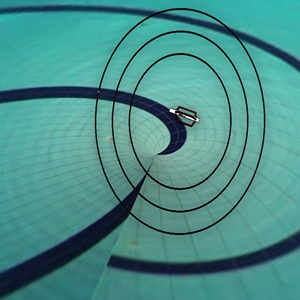circle: (77, 3, 283, 238)
submarine: (163, 98, 211, 139)
